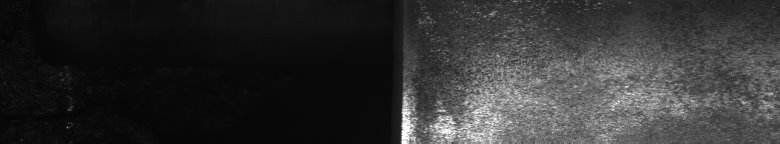kb: (416, 4, 776, 136)
